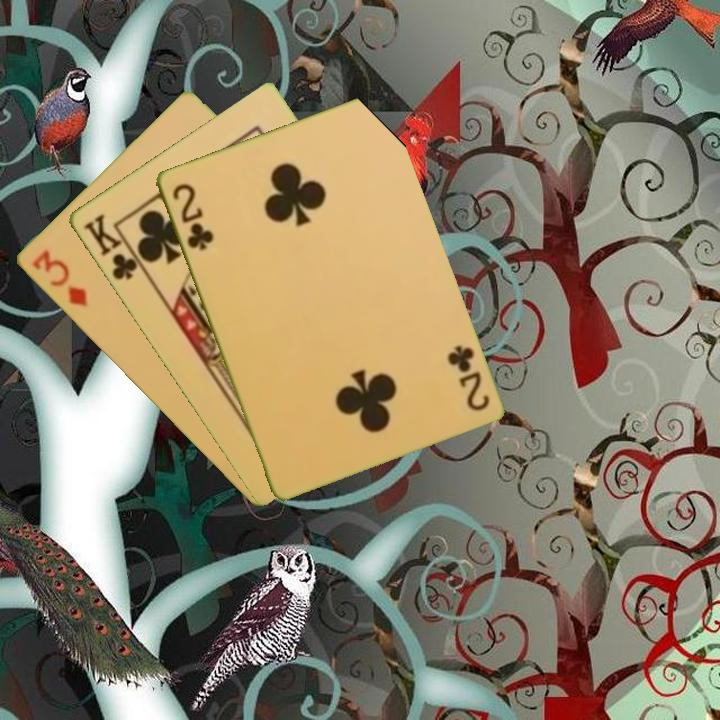2c: (443, 341, 492, 414), (168, 179, 216, 253)
3d: (28, 245, 90, 310)
Kc: (79, 210, 147, 283)
